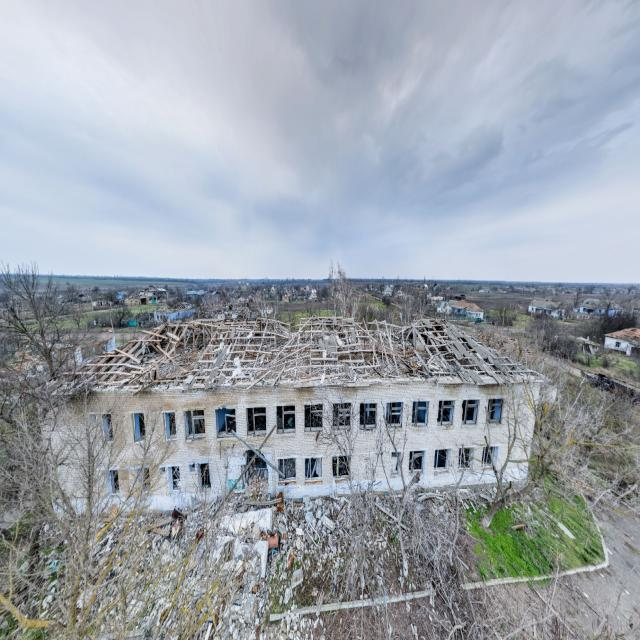broken_window: (184, 408, 205, 441), (215, 407, 236, 438), (246, 407, 266, 435), (276, 404, 295, 433), (332, 402, 352, 429), (304, 402, 322, 431), (277, 457, 296, 483), (359, 402, 377, 429), (331, 454, 350, 479), (461, 399, 479, 425), (304, 456, 322, 482), (437, 399, 454, 426), (386, 401, 403, 426), (412, 400, 428, 426), (132, 412, 145, 442), (408, 450, 424, 474), (488, 398, 502, 424), (101, 412, 113, 442), (164, 411, 176, 439)
building: (40, 309, 557, 530)
damaged_roof: (13, 313, 549, 397)
